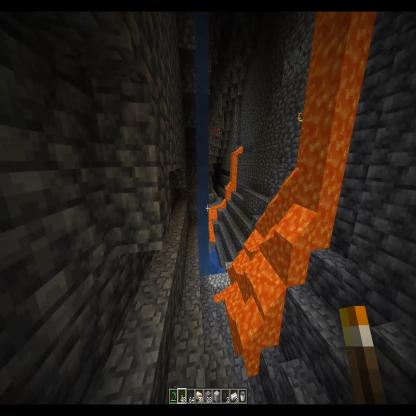redstone ore: (216, 127, 220, 139), (212, 126, 216, 136)
